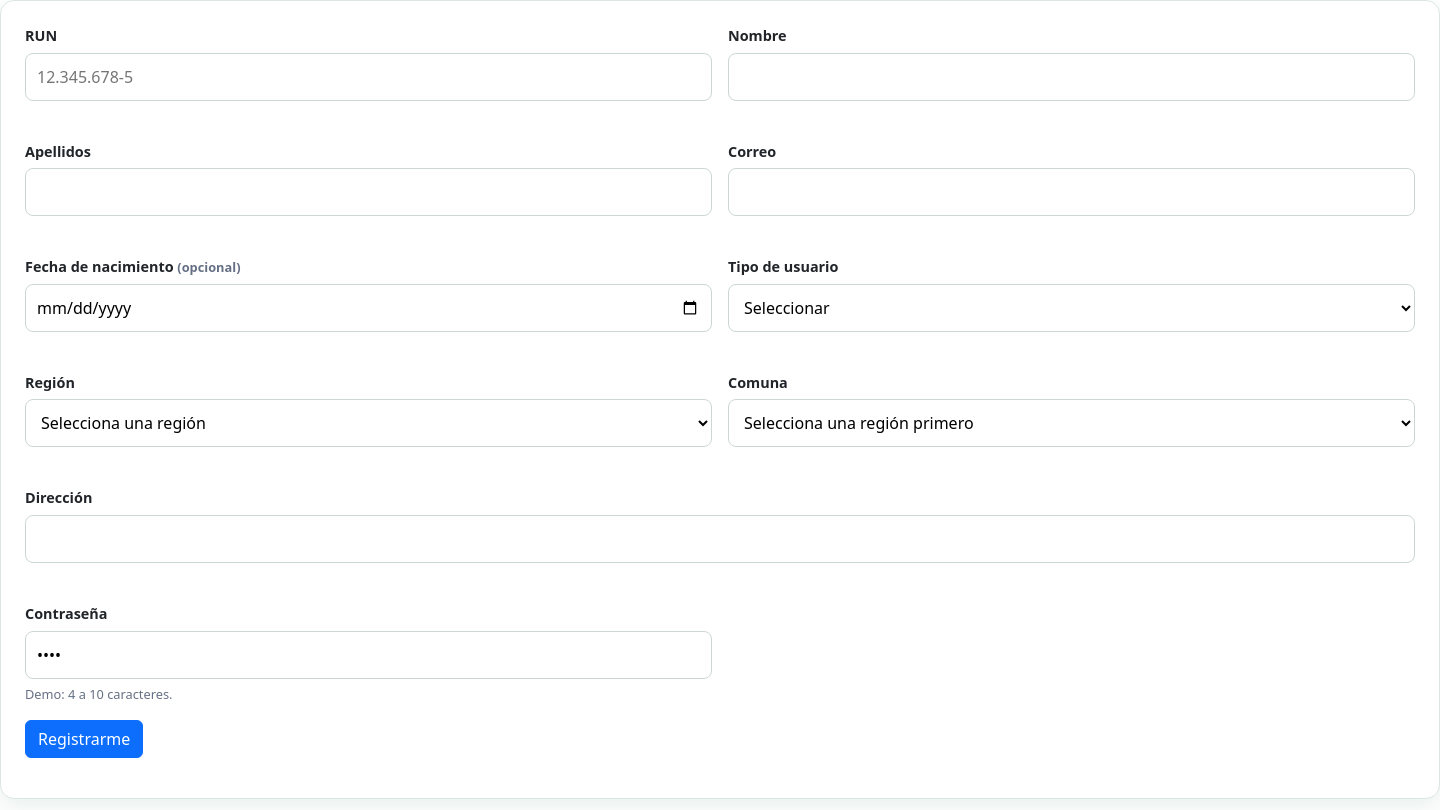
Test: FormRegistro › muestra error cuando el RUN es obligatorio
Click the button "Registrarme".
click(84, 739)  # box left=25, top=720, right=143, bottom=758
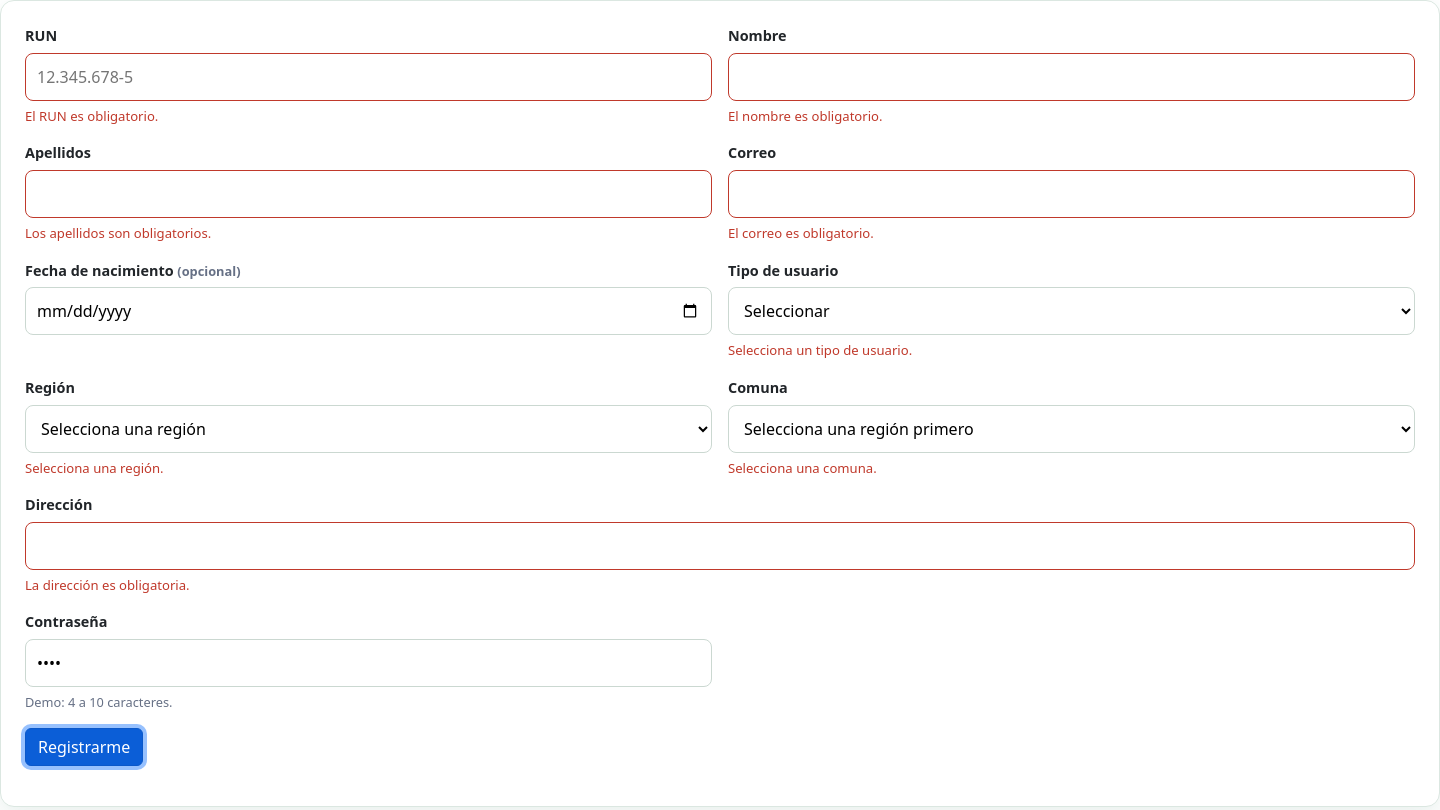
Check: the text "El RUN es obligatorio." is shown, box left=25, top=107, right=158, bottom=125
